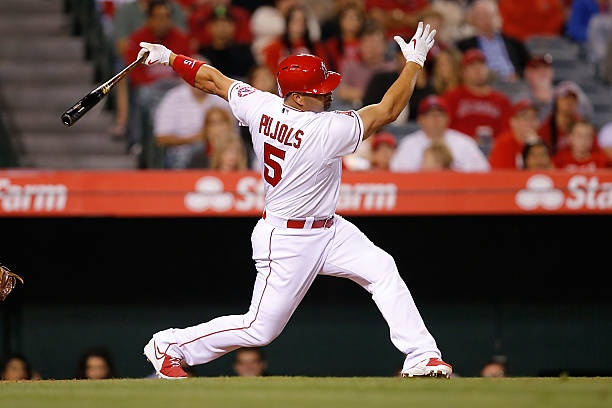bita: (58, 53, 150, 130)
